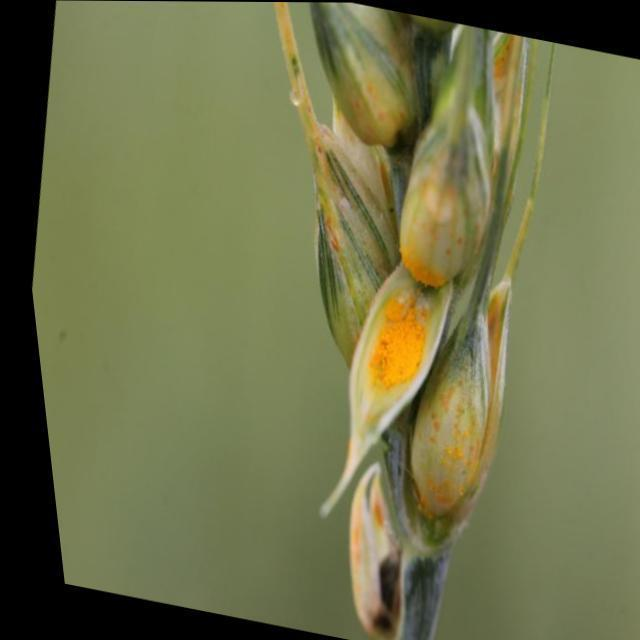Yellow Rust: (306, 1, 537, 639)
